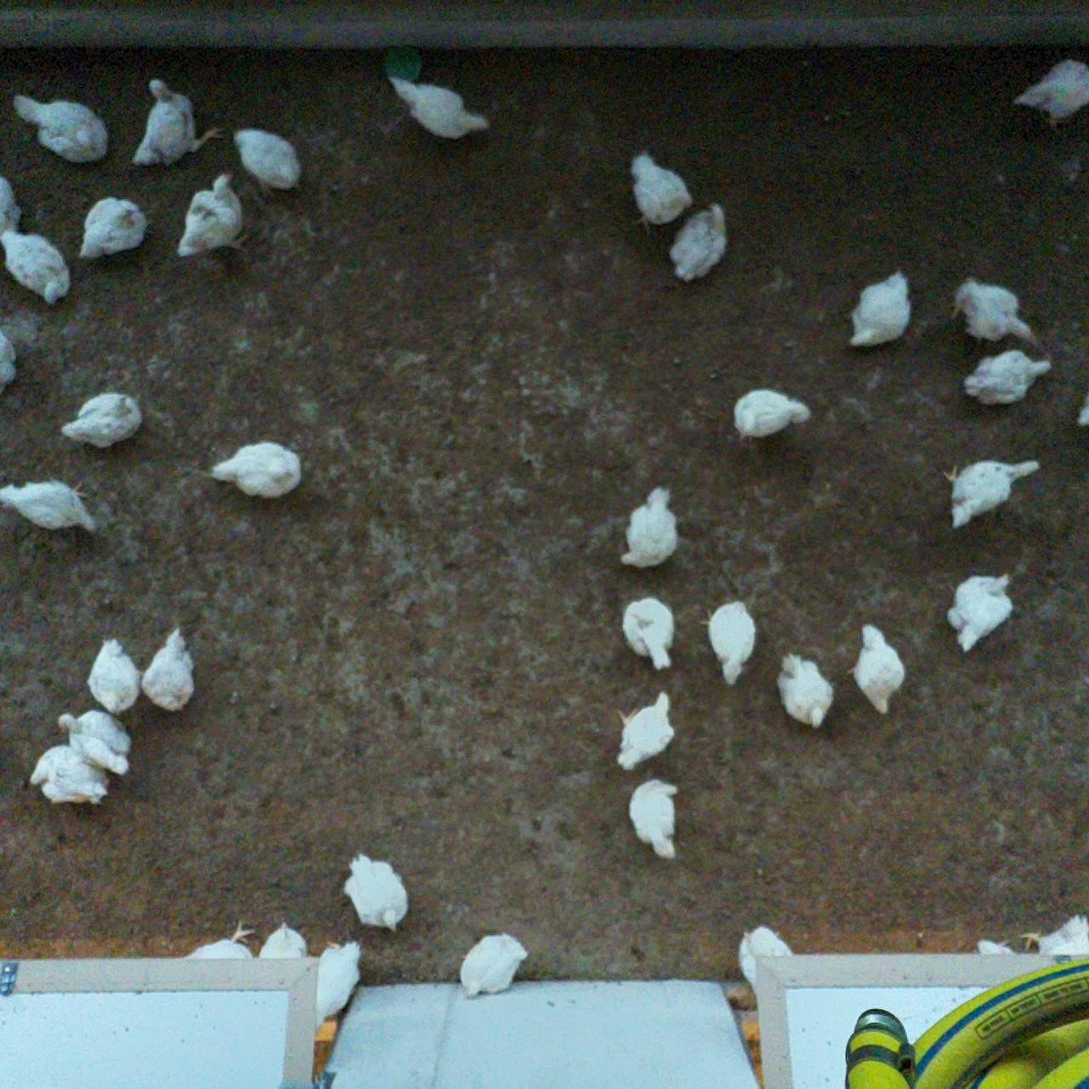chicken: (133, 78, 221, 165), (944, 458, 1040, 531), (390, 77, 493, 140), (15, 95, 109, 162), (177, 174, 247, 260), (0, 230, 75, 305), (948, 573, 1018, 652), (852, 624, 910, 718), (0, 482, 100, 536), (966, 349, 1058, 407), (955, 279, 1036, 344), (211, 444, 305, 500), (701, 602, 761, 687), (29, 745, 109, 808), (347, 852, 410, 932), (851, 269, 914, 347), (61, 391, 145, 449), (60, 711, 133, 776), (616, 693, 676, 771), (633, 155, 691, 233), (672, 206, 732, 281), (1018, 60, 1089, 121), (82, 197, 148, 262), (778, 652, 835, 727), (624, 487, 676, 568), (87, 636, 141, 713), (146, 628, 196, 711), (459, 936, 527, 997), (233, 128, 303, 187), (733, 390, 813, 439), (630, 783, 681, 858), (316, 941, 361, 1024), (626, 597, 674, 670), (738, 927, 795, 985), (189, 922, 260, 956), (1023, 921, 1089, 956), (262, 921, 310, 958), (0, 330, 19, 395), (0, 180, 24, 231), (978, 936, 1018, 958), (1077, 393, 1089, 427)
